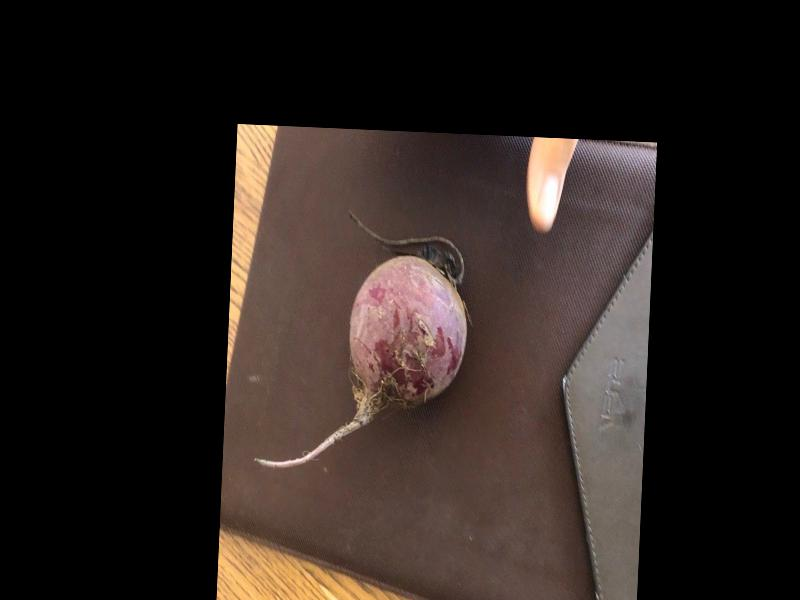Beet: (255, 209, 471, 476)
